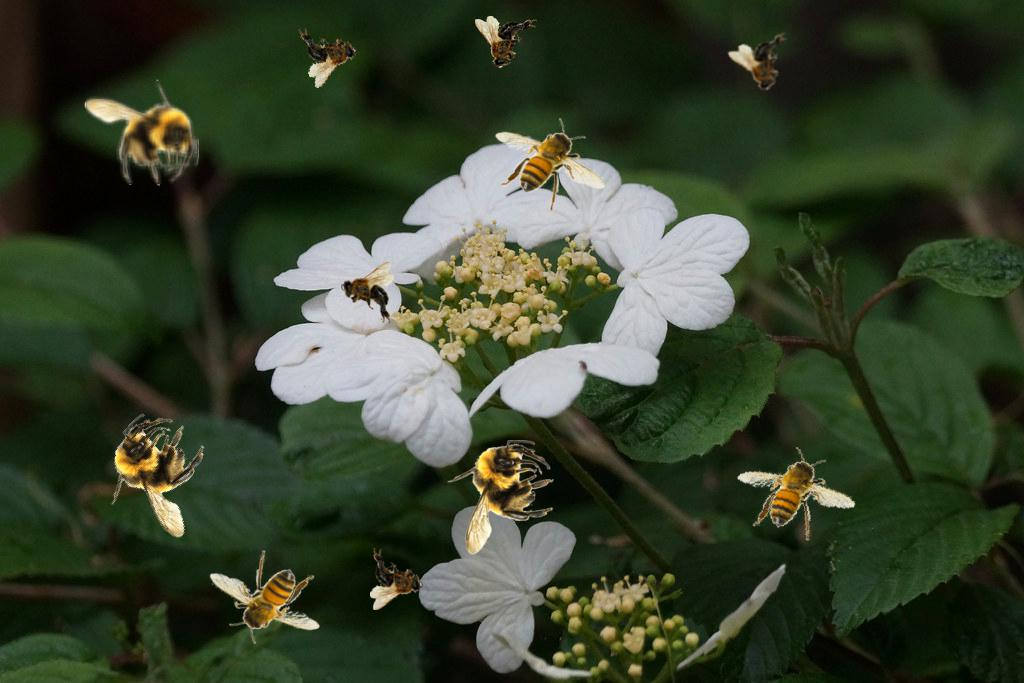Bee: (80, 398, 239, 555), (733, 437, 862, 553), (447, 440, 554, 555), (84, 79, 199, 186), (495, 118, 606, 212), (209, 550, 320, 644), (726, 28, 803, 100), (295, 14, 364, 90), (341, 262, 394, 324), (370, 548, 423, 610), (475, 16, 537, 69)
